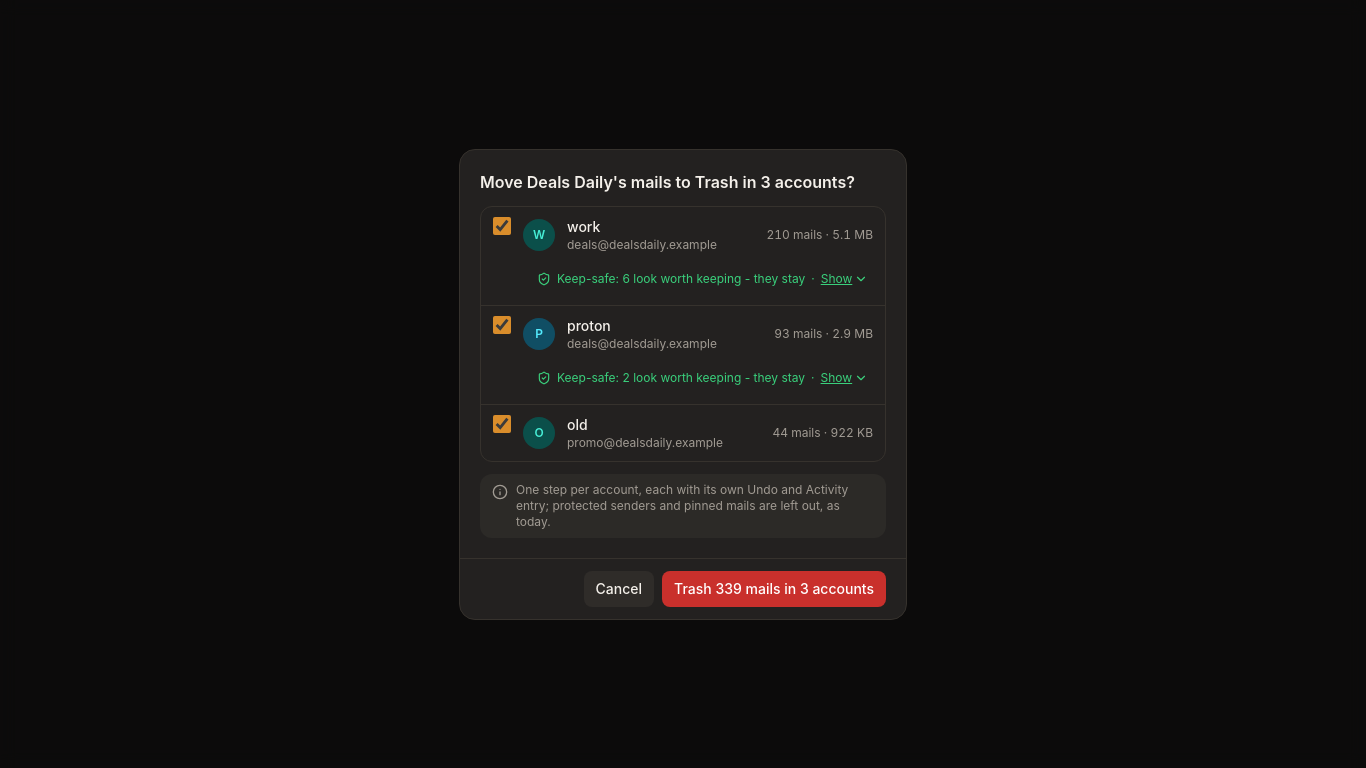
Test case: the server still refuses a protected sender: that account fails, the others go on
Expected: the text "Keep-safe: 6 look worth keeping - they stay" is shown, [557,270,805,286]
Click the button "Trash 339 mails in 3 accounts": (774, 588) [662,570,886,606]
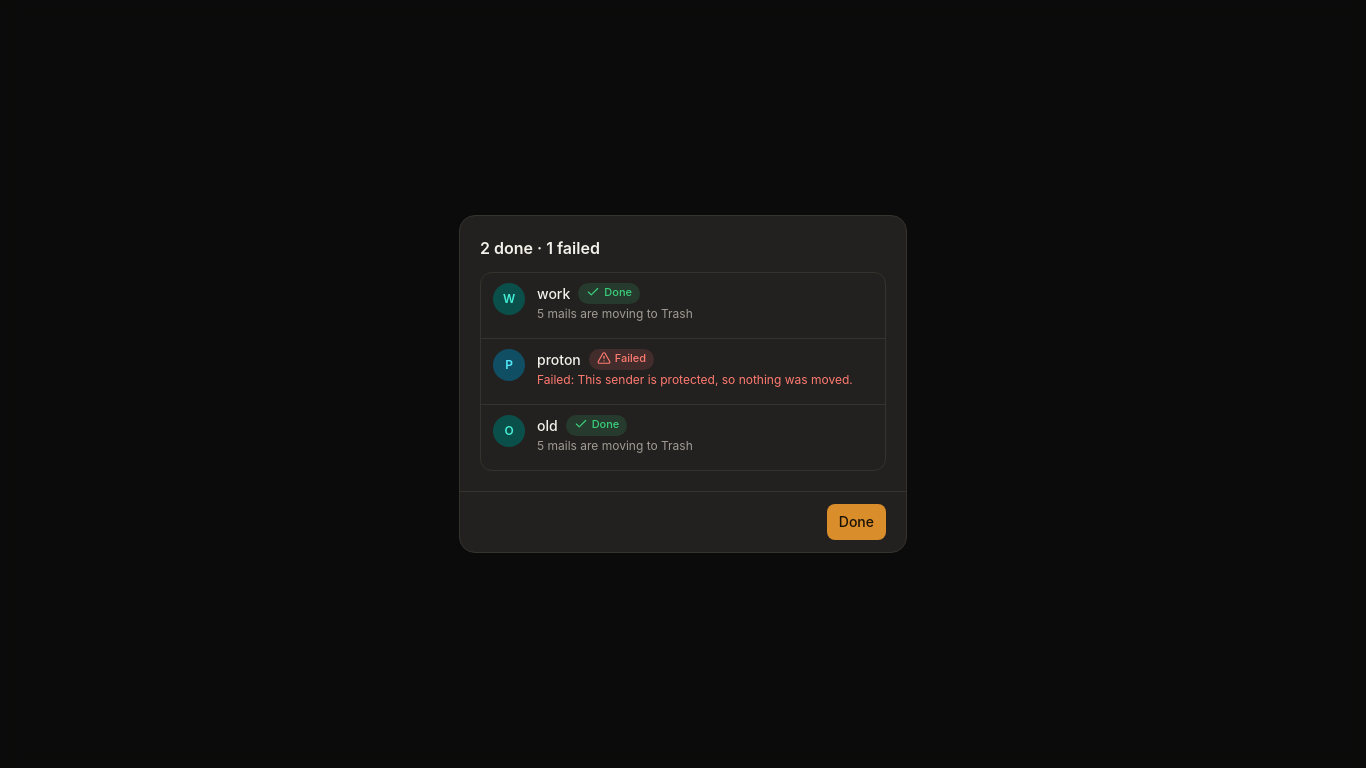
Now the heading "2 done · 1 failed" is shown, box [480,238,600,258]
Now the text "Failed: This sender is protected, so nothing was moved." is shown, box [537,372,873,388]
